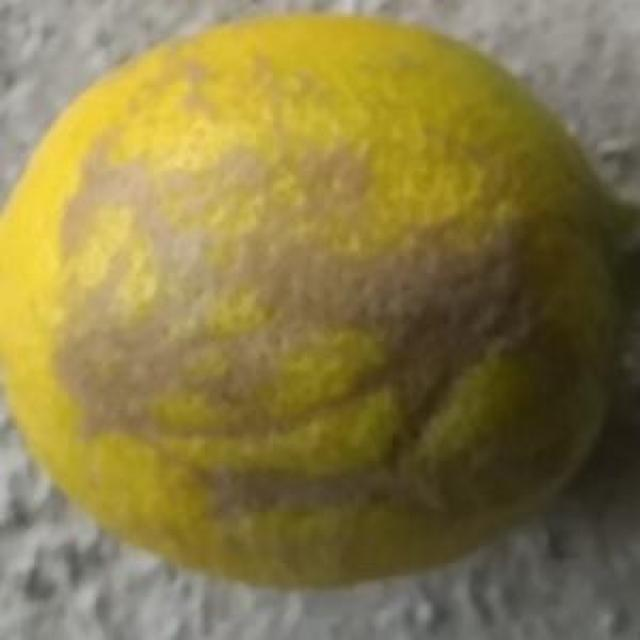lemon: (0, 14, 627, 592)
